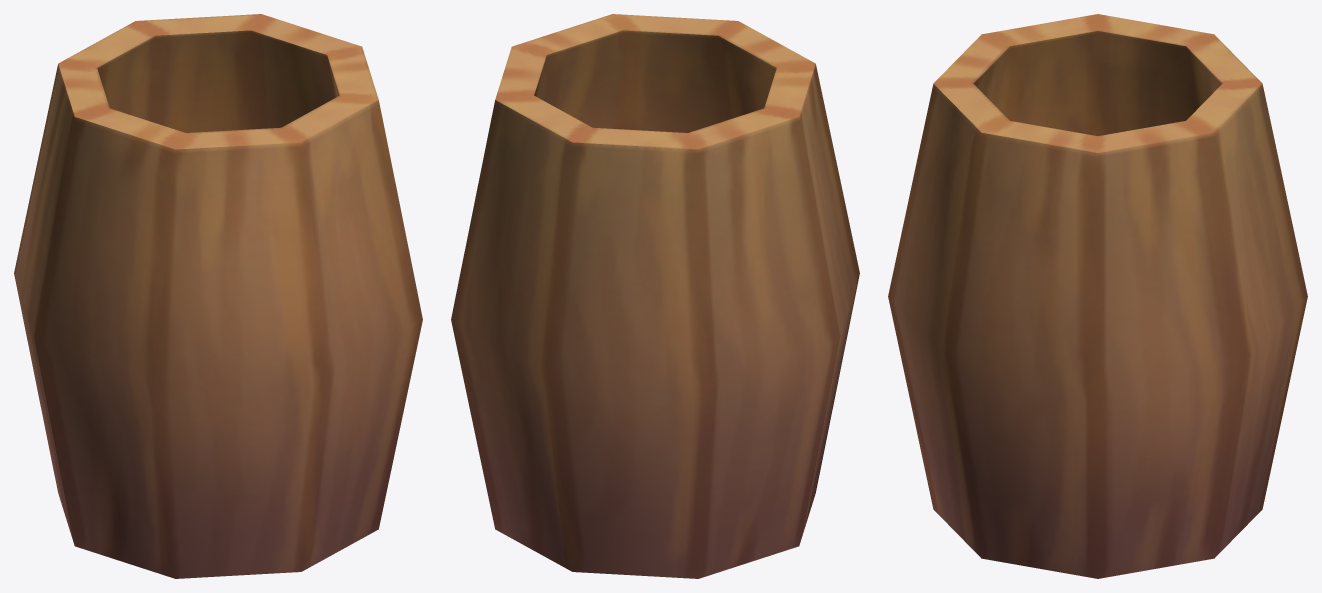
The model's file is barrel_mesh.fbx.
3 renders of one model, left to right at view 1: azimuth 30°, elevation 25°; view 2: azimuth 150°, elevation 25°; view 3: azimuth 270°, elevation 25°, orthographic.
Parts seen in each view (by area): view 1: barrel_mesh; view 2: barrel_mesh; view 3: barrel_mesh.
Boxes of the visible parts, bbox=[...] form: barrel_mesh: bbox=[14, 14, 422, 578]; barrel_mesh: bbox=[451, 14, 859, 578]; barrel_mesh: bbox=[888, 14, 1307, 578].
Bounding box in the file's own units: 0.4796 × 0.5368 × 0.4796.
